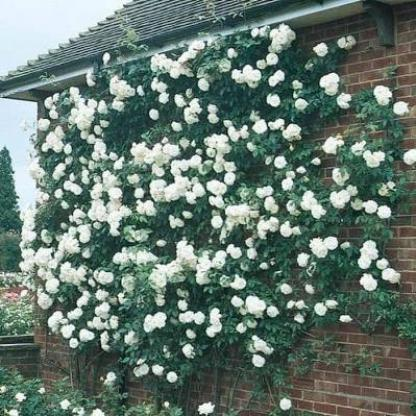Rose-Mawar: (26, 94, 416, 374), (99, 52, 392, 90), (247, 27, 310, 52)
